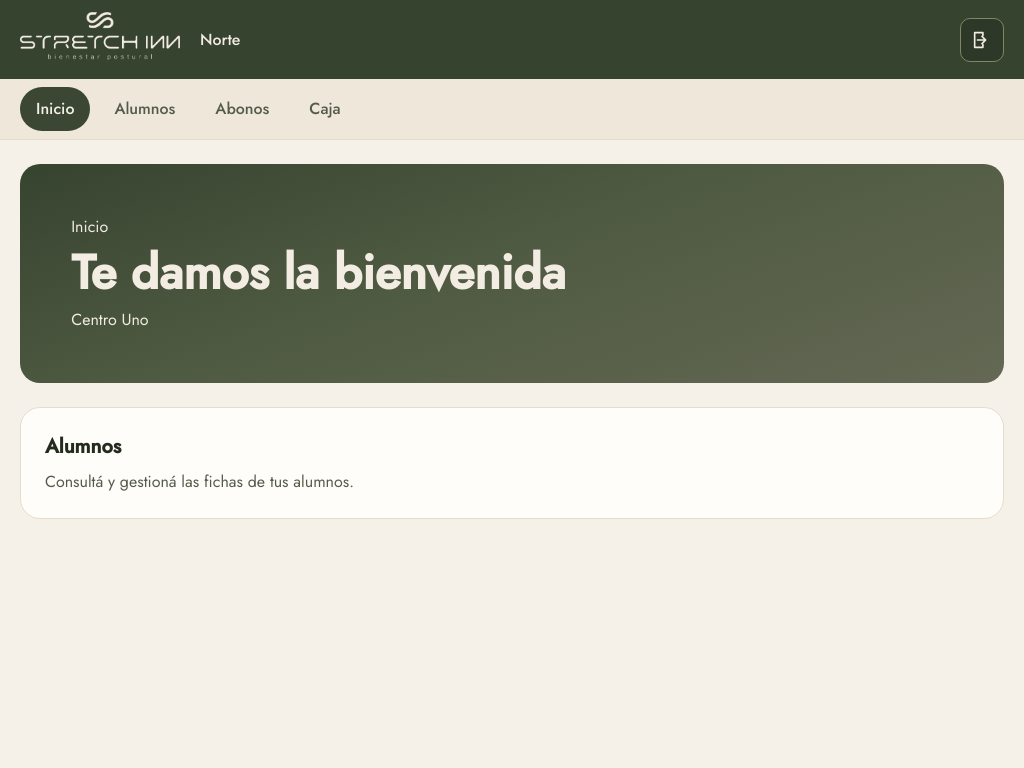
Test: el buscador se lee como búsqueda y cada resultado se elige con un botón
Click the link "Caja" at (325, 109), box [309, 97, 341, 120]
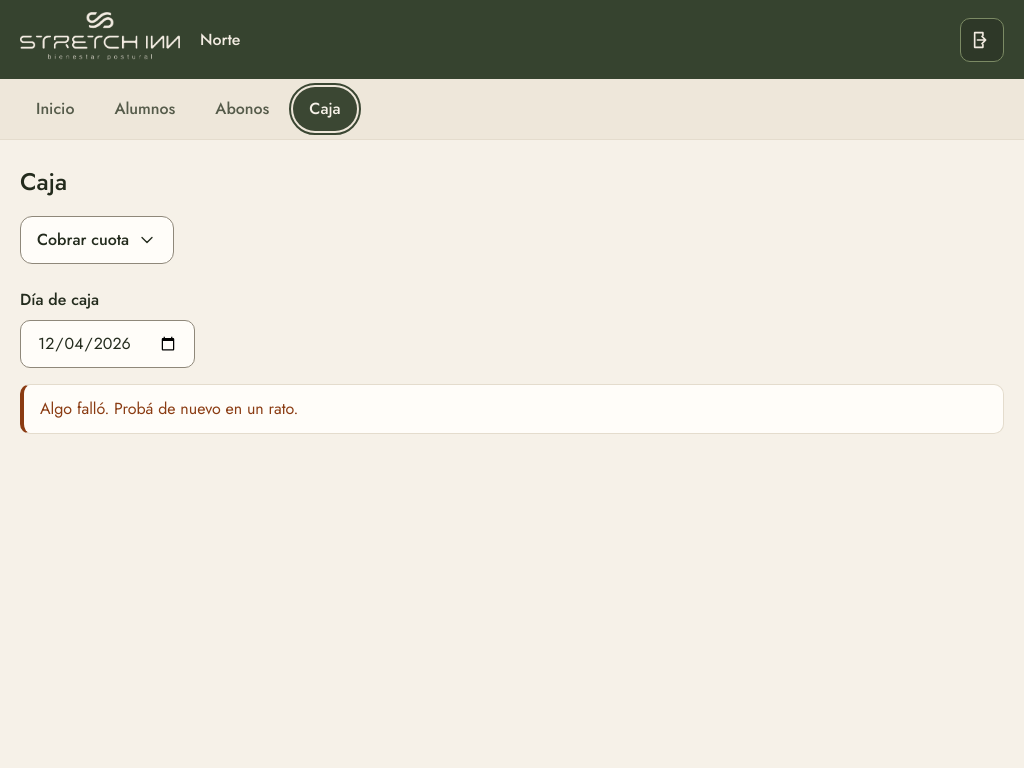
Click the heading "Cobrar cuota" at (97, 240), box [20, 216, 174, 264]
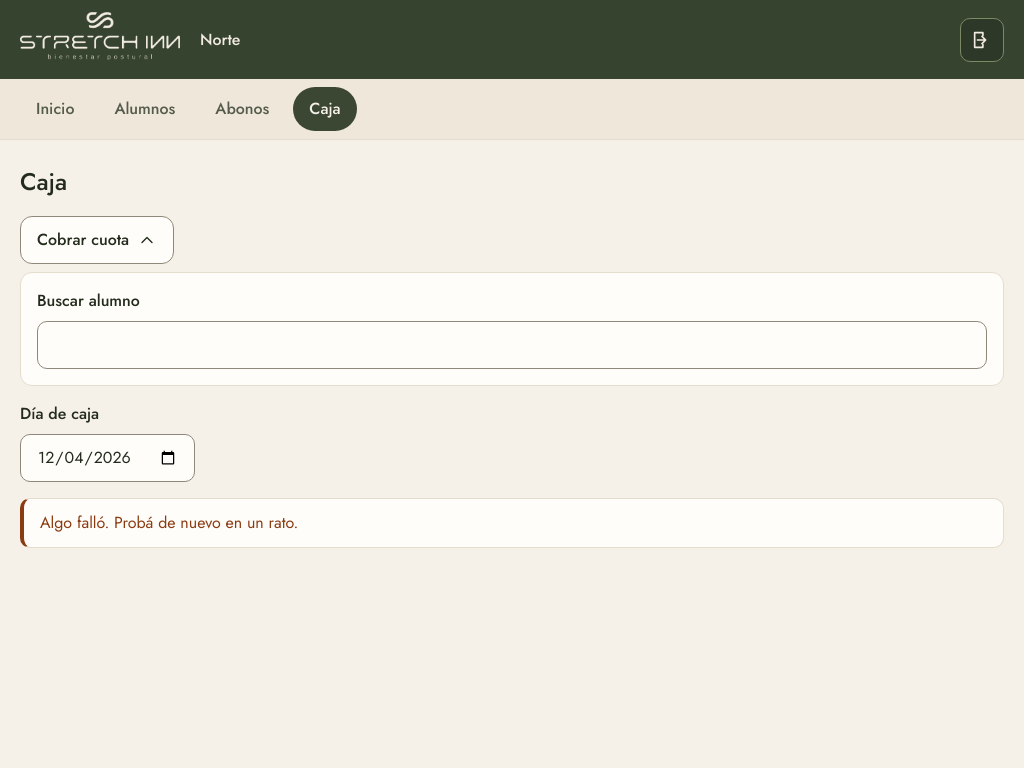
Type "Ana" into the search field labelled "Buscar alumno" at (512, 345), box [37, 321, 987, 369]
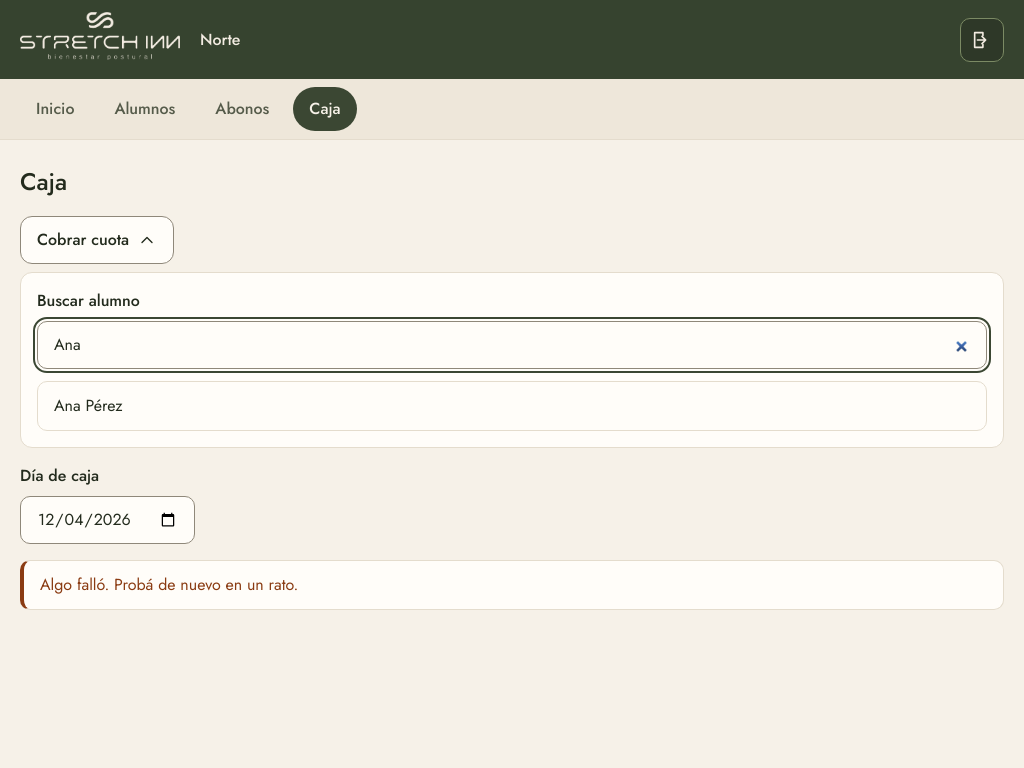
Click the button "Ana Pérez" at (104, 406), box [38, 382, 986, 430]
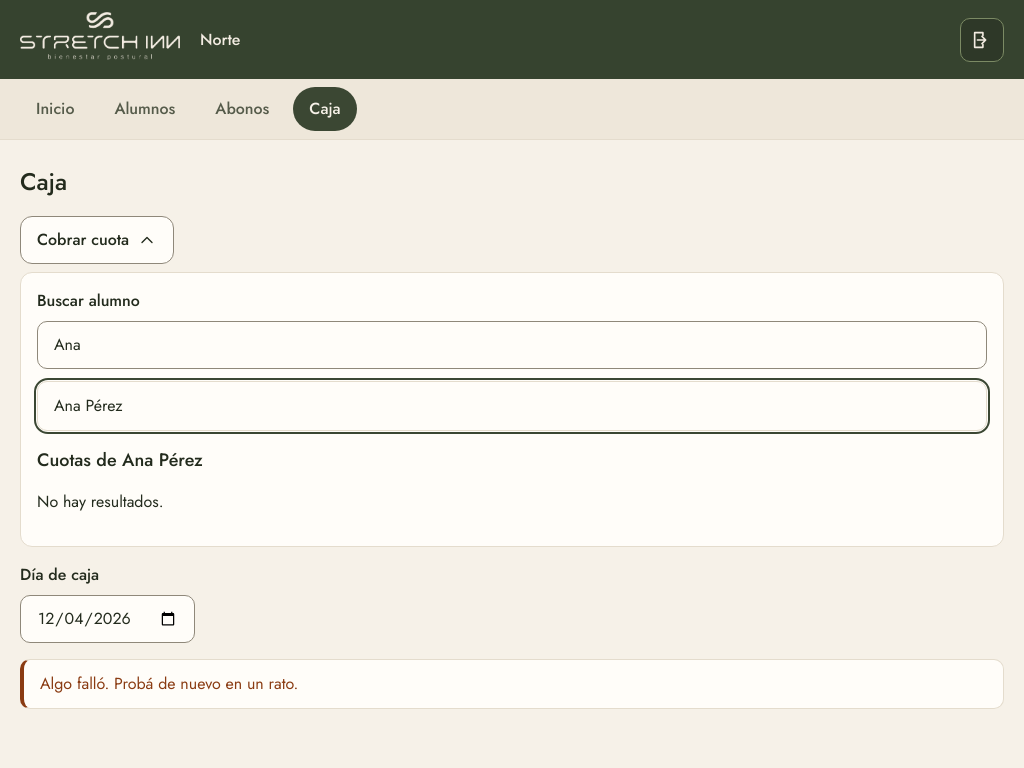
Result: the heading "Cuotas de Ana Pérez" is shown at [37, 447, 203, 473]
